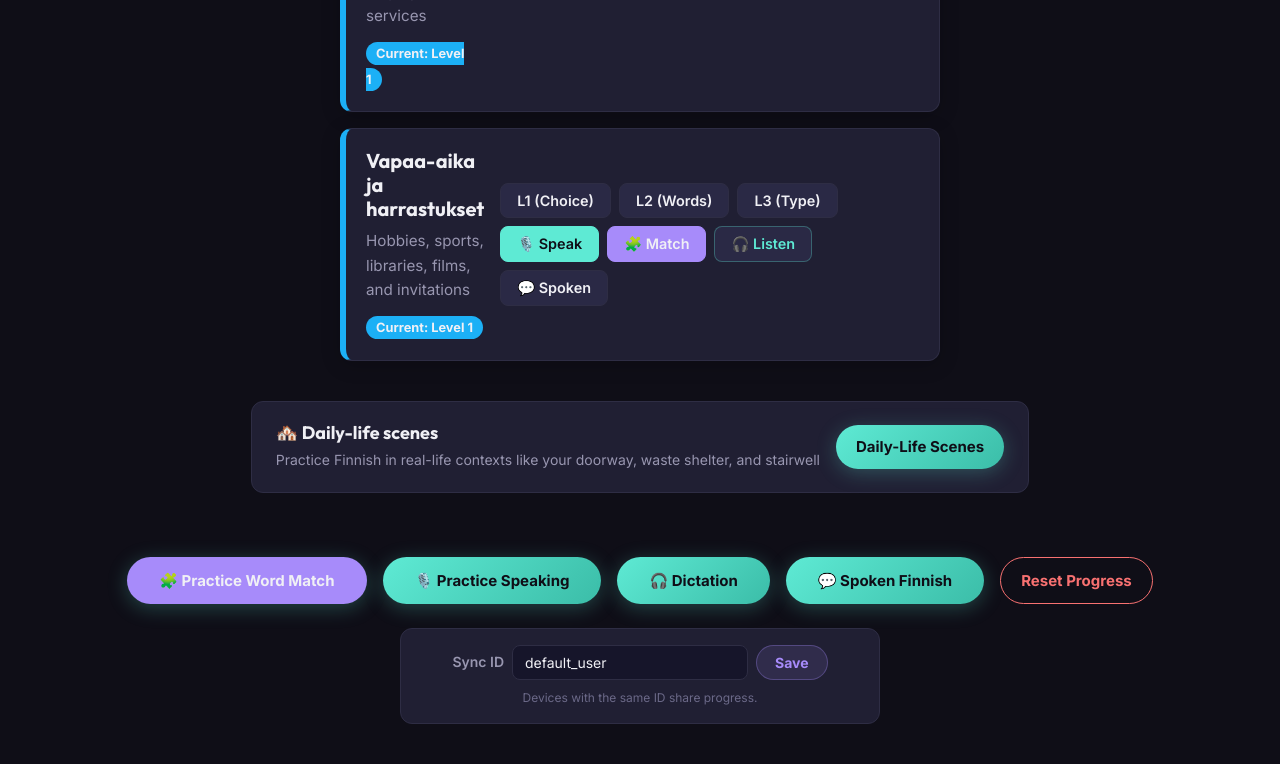
Test case: Home Component › saves valid Sync ID and shows error for invalid Sync ID
This screenshot has width=1280, height=764.
(page scrolled)
Expected: the text "Devices with the same ID share progress." is shown, top-left (522, 688), bottom-right (757, 707)
Invalid ID shows error below input
Replace the text in the field labelled "Sync ID" with "invalid id!": coordinates (630, 662) top-left (512, 645), bottom-right (748, 680)
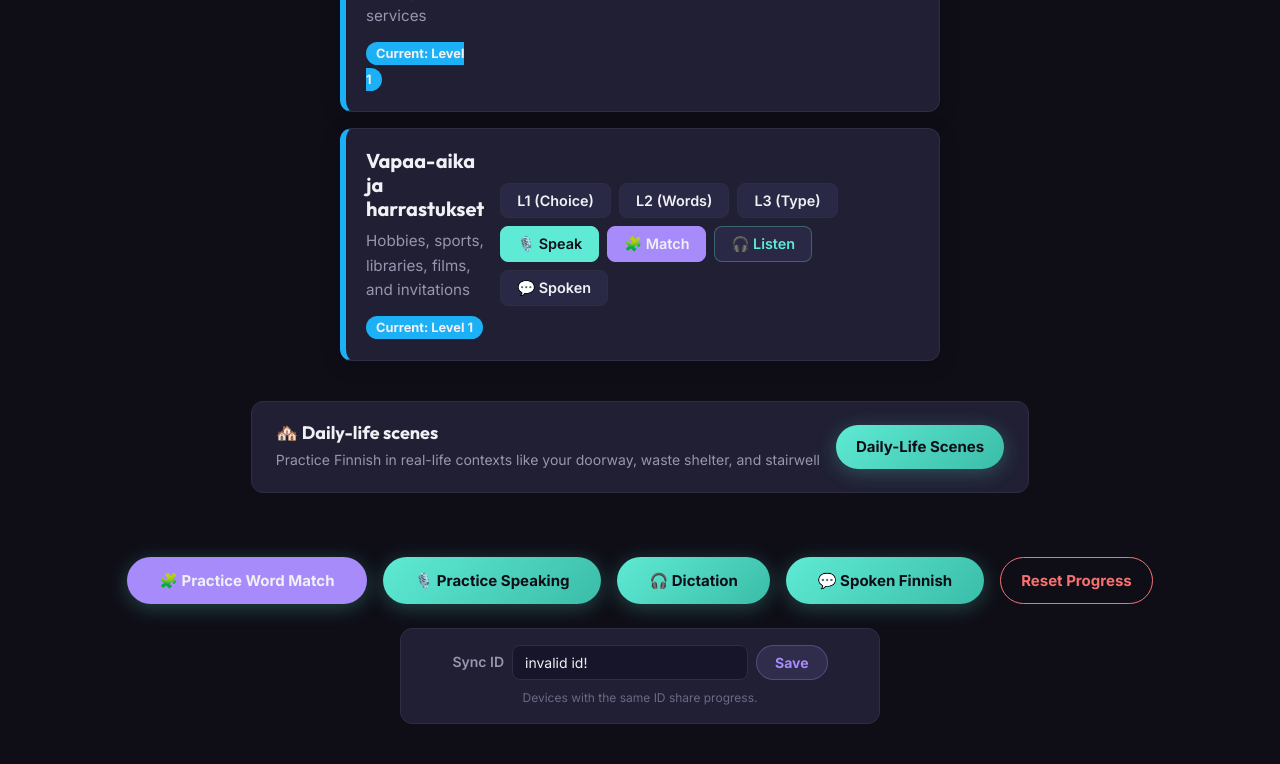
Click the button "Save": coordinates (792, 662) top-left (756, 645), bottom-right (828, 680)
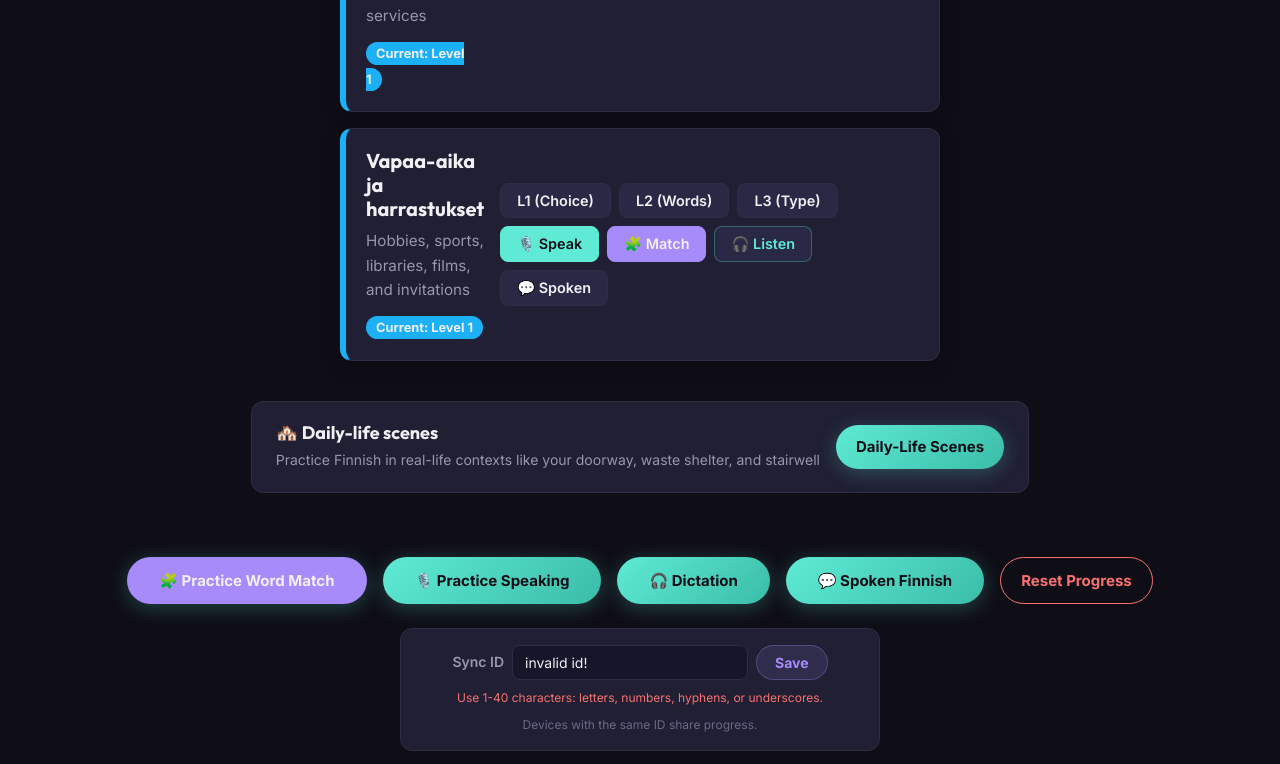
Expected: the message "Use 1-40 characters: letters, numbers, hyphens, or underscores." is shown, top-left (457, 688), bottom-right (823, 707)
Valid ID saves to localStorage and clears error
Replace the text in the field labelled "Sync ID" with "my_sync_123": coordinates (630, 662) top-left (512, 645), bottom-right (748, 680)
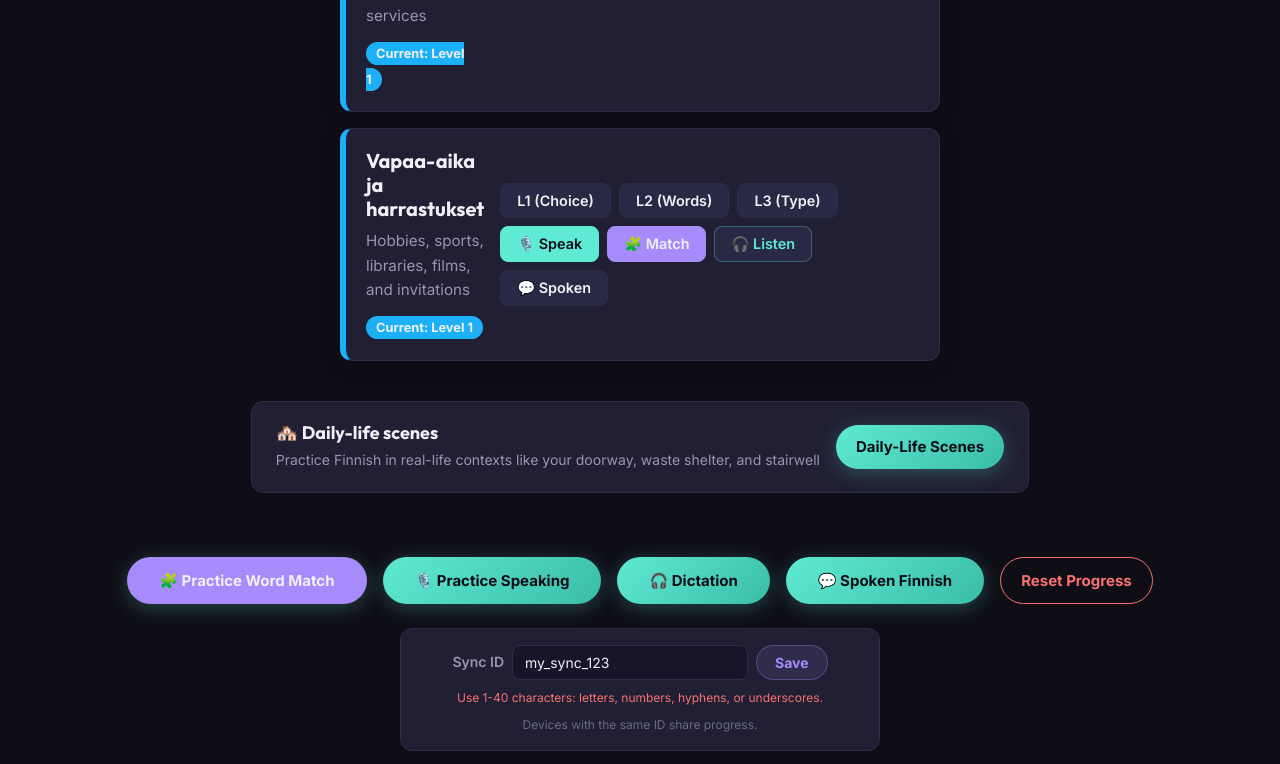
Click the button "Save": coordinates (792, 662) top-left (756, 645), bottom-right (828, 680)
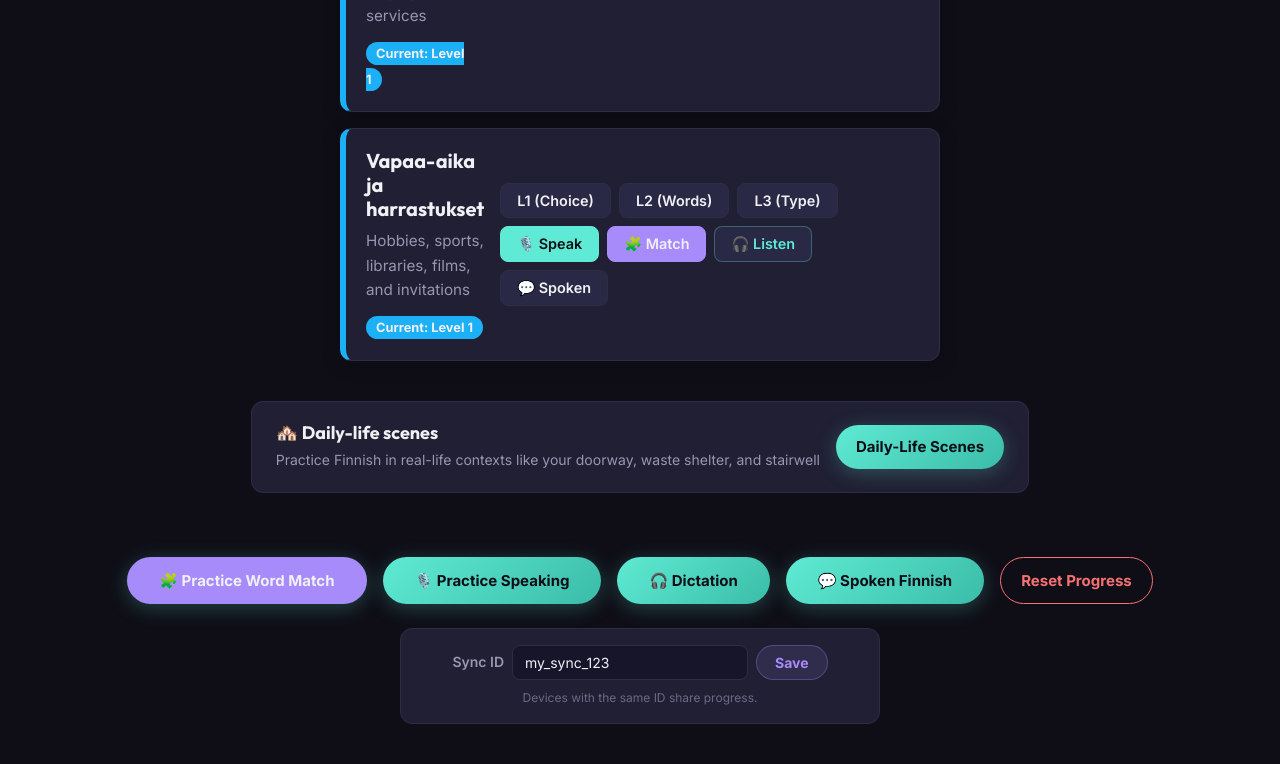
Expected: the message "Use 1-40 characters: letters, numbers, hyphens, or underscores." is gone
